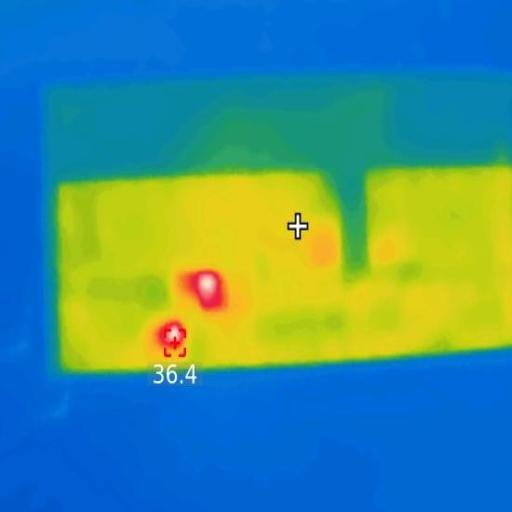hotspot: (188, 270, 226, 312), (160, 326, 187, 350)
